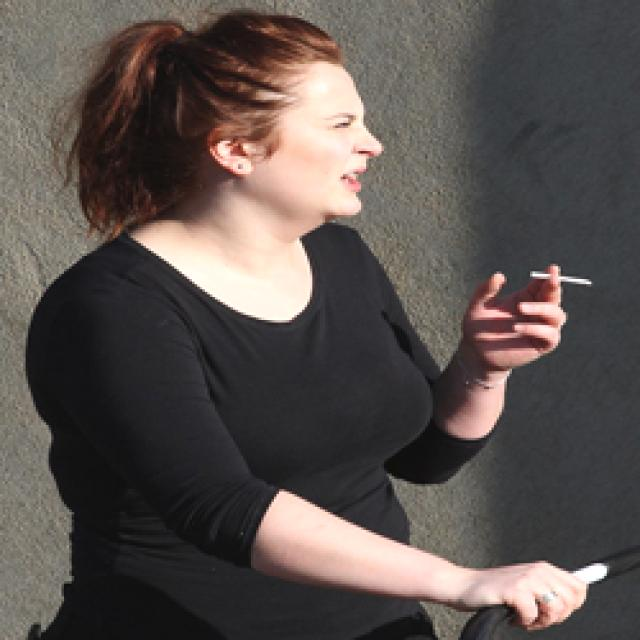Smooking: (521, 266, 602, 300)
